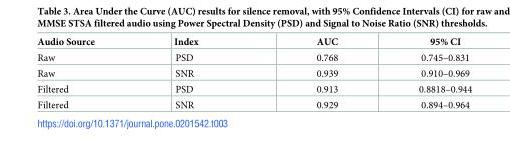table: (36, 36, 471, 109)
table column: (133, 36, 256, 109), (256, 36, 377, 109), (36, 36, 133, 109), (377, 36, 471, 109)
table column header: (36, 36, 471, 49)
table row: (36, 49, 471, 65), (36, 65, 471, 81), (36, 81, 471, 96), (36, 36, 471, 49), (36, 96, 471, 109)
